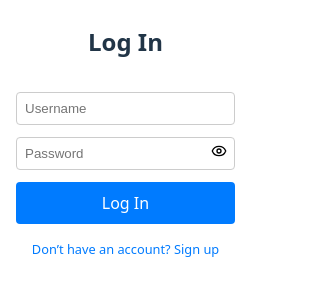
Test: Login › shows error on invalid credentials
The image size is (320, 292).
Step 1. Type "bob" into the field with placeholder "Username" → (126, 108), box [16,92,235,125]
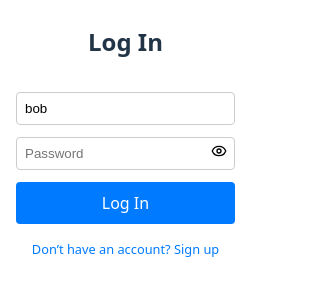
Step 2. Type "secret" into the password field with placeholder "Password" → (126, 153), box [16,137,235,170]
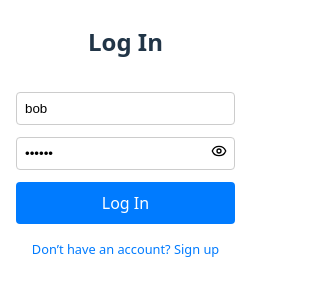
Step 3. Click the button "Log In" → (126, 203), box [16,182,235,224]
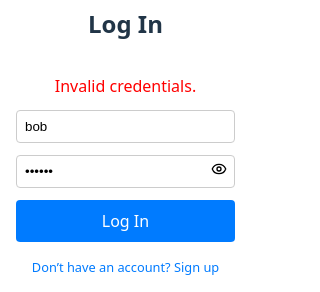
expect the text "Invalid credentials." is shown: met, box [55,75,196,97]
